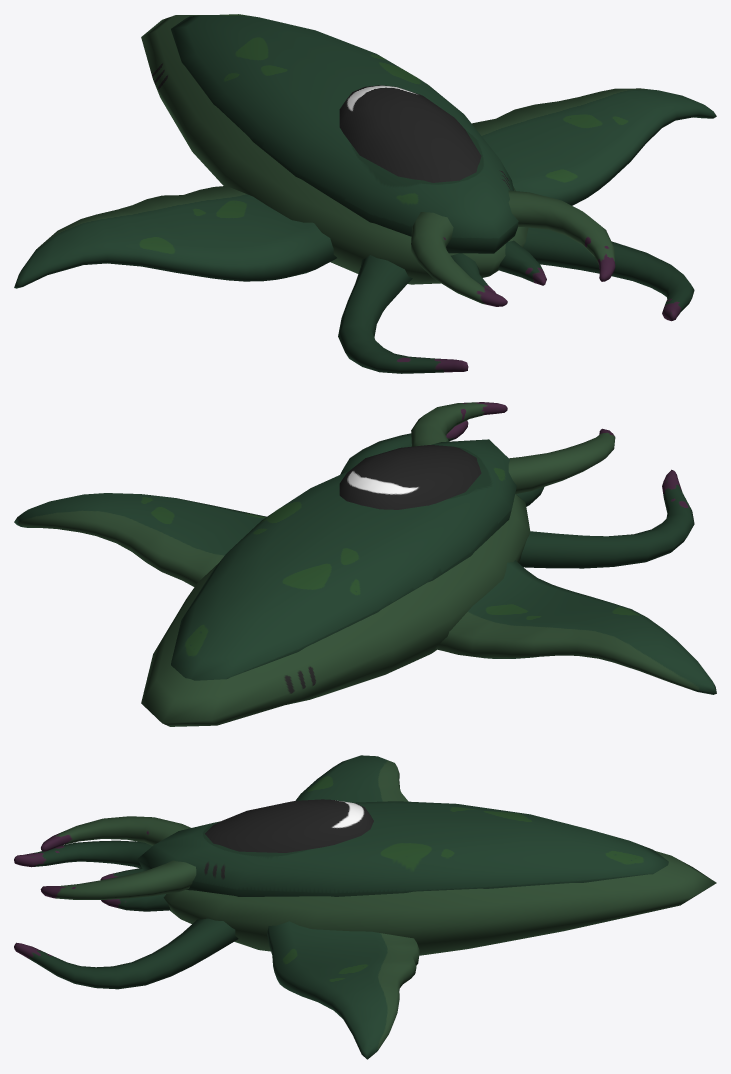
The model's file is BasicEnnemy.fbx.
The picture shows the model from 3 angles, top to bottom: view 1: azimuth 30°, elevation 25°; view 2: azimuth 150°, elevation 25°; view 3: azimuth 270°, elevation 25°; orthographic projection. The views are drawn at different scales.
Visible parts, largest first — view 1: BasicEnnemy; view 2: BasicEnnemy; view 3: BasicEnnemy.
Part boxes in pixels (x1,y1,x2,y2): BasicEnnemy: (14, 14, 716, 373); BasicEnnemy: (14, 402, 716, 726); BasicEnnemy: (14, 755, 716, 1059).
Bounding box in the file's own units: 280 × 60.32 × 282.
1 material, 1 textured.
